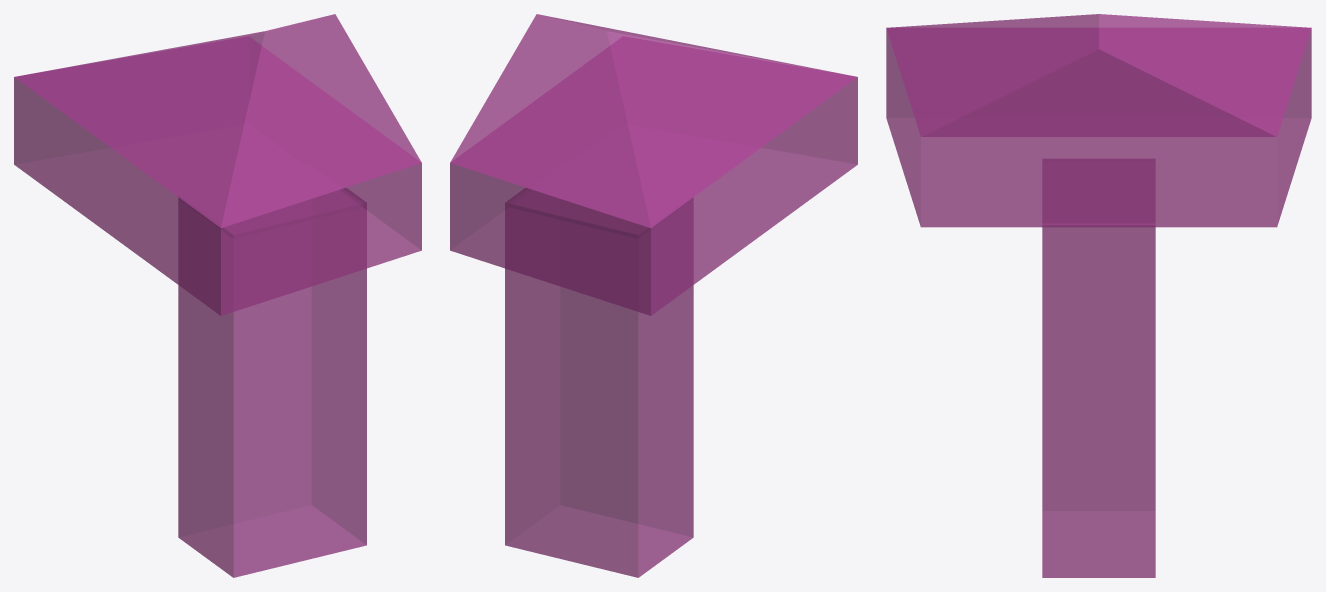
File: SM_Bld_Fence_Dobei_End_01_Collision_01.fbx
The picture shows the model from 3 angles, left to right: view 1: azimuth 30°, elevation 25°; view 2: azimuth 150°, elevation 25°; view 3: azimuth 270°, elevation 25°; orthographic projection. The views are drawn at different scales.
Visible parts, largest first — view 1: SM_Bld_Fence_Dobei_End_01_Collision_01; view 2: SM_Bld_Fence_Dobei_End_01_Collision_01; view 3: SM_Bld_Fence_Dobei_End_01_Collision_01.
Part boxes in pixels (x1,y1,x2,y2): SM_Bld_Fence_Dobei_End_01_Collision_01: (14, 14, 421, 577); SM_Bld_Fence_Dobei_End_01_Collision_01: (450, 14, 857, 577); SM_Bld_Fence_Dobei_End_01_Collision_01: (886, 14, 1311, 577).
Bounding box in the file's own units: 136 × 301 × 220.
